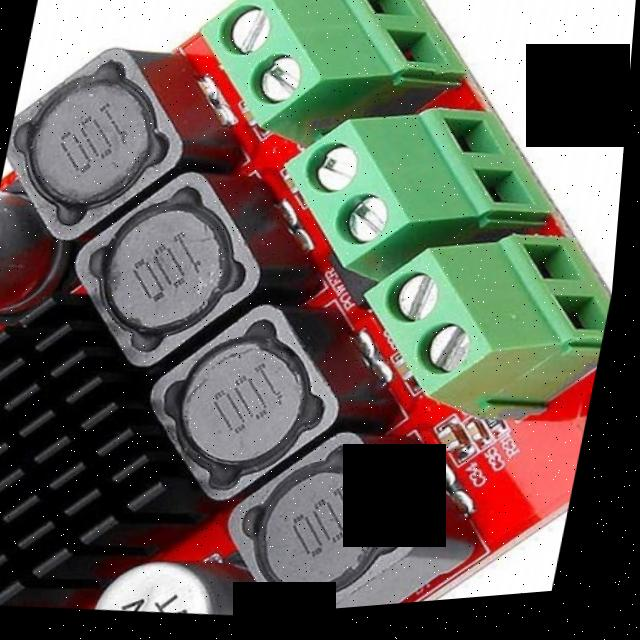capacitor 1V5: (394, 363, 431, 393), (465, 426, 492, 452), (436, 438, 464, 463)
connector -5v-: (348, 227, 617, 437), (267, 90, 530, 289), (188, 0, 455, 139)
inductor F1: (137, 317, 353, 510), (63, 168, 265, 371), (222, 433, 435, 623), (0, 41, 196, 244)
